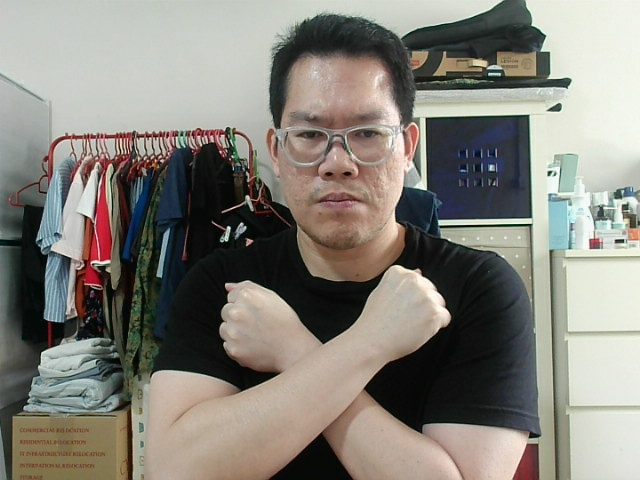love: (369, 271, 448, 337)
